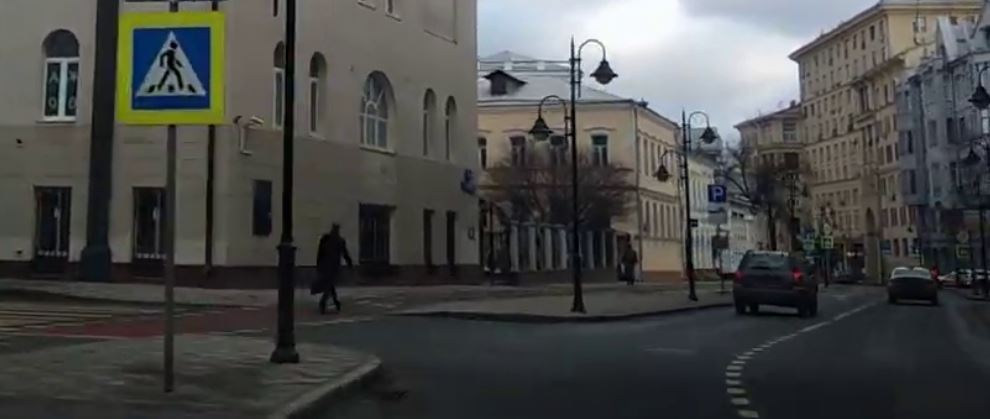Yaya Gecidi: (134, 27, 211, 112)
